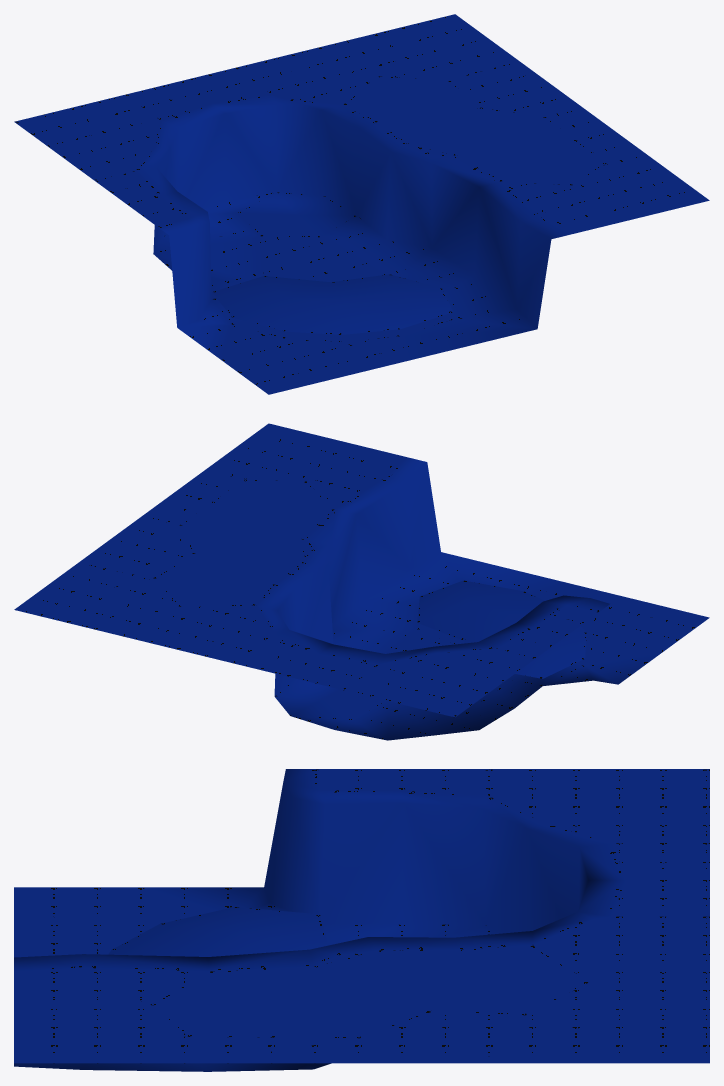
File: GRD_S_C5_2.fbx
The picture shows the model from 3 angles, top to bottom: view 1: azimuth 30°, elevation 25°; view 2: azimuth 150°, elevation 25°; view 3: azimuth 270°, elevation 25°; orthographic projection. The views are drawn at different scales.
Parts seen in each view (by area): view 1: material_00022000, material_00042000, material_C0032000, material_C0012000, material_C0052000; view 2: material_00022000, material_00042000, material_C0032000, material_C0012000, material_C0052000; view 3: material_00022000, material_00042000, material_C0032000, material_C0012000.
Boxes of the visible parts, x1=… form: material_00022000: x1=14, y1=14, x2=709, y2=394; material_00042000: x1=135, y1=94, x2=571, y2=328; material_C0032000: x1=238, y1=76, x2=606, y2=237; material_C0012000: x1=212, y1=274, x2=452, y2=334; material_C0052000: x1=212, y1=298, x2=453, y2=342; material_00022000: x1=14, y1=423, x2=709, y2=740; material_00042000: x1=256, y1=457, x2=609, y2=695; material_C0032000: x1=152, y1=479, x2=386, y2=719; material_C0012000: x1=417, y1=580, x2=586, y2=678; material_C0052000: x1=417, y1=623, x2=586, y2=685; material_00022000: x1=14, y1=769, x2=709, y2=1071; material_00042000: x1=14, y1=769, x2=625, y2=971; material_C0032000: x1=149, y1=945, x2=588, y2=1038; material_C0012000: x1=108, y1=907, x2=328, y2=956.
Size of the model in its own units: 12800 by 2400 by 12800.
